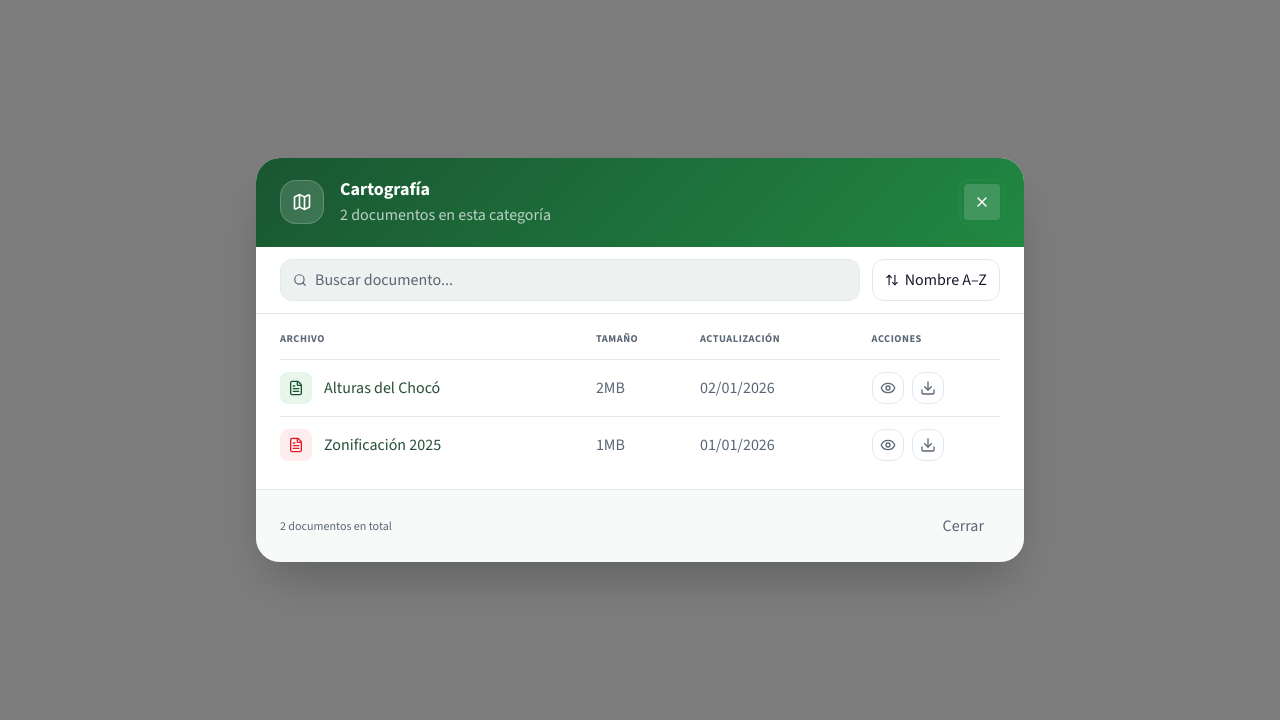
Test: CategoryModal — búsqueda y orden › ordenar por "Más antiguo" coloca el documento con fecha más vieja primero
Click the button "Nombre A–Z". click: coordinates (936, 280)
box: [872, 259, 1000, 301]
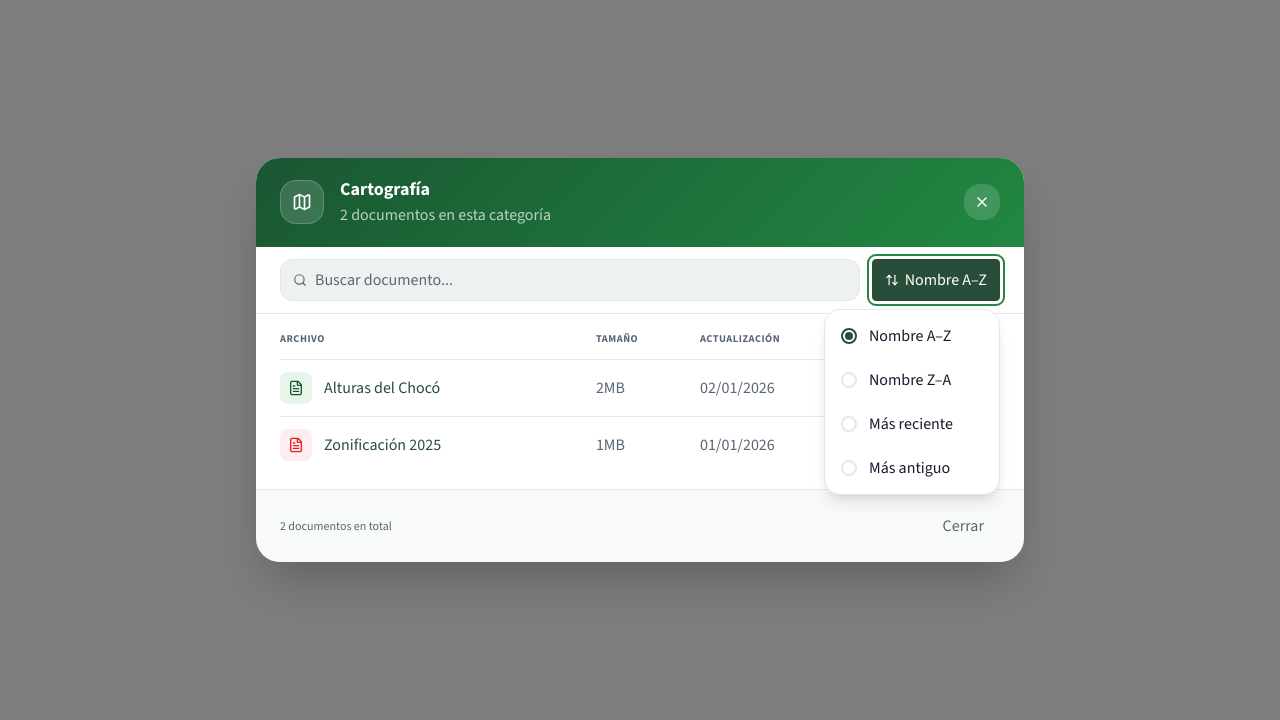
Click the button "Más antiguo". click: coordinates (912, 468)
box: [825, 446, 999, 490]
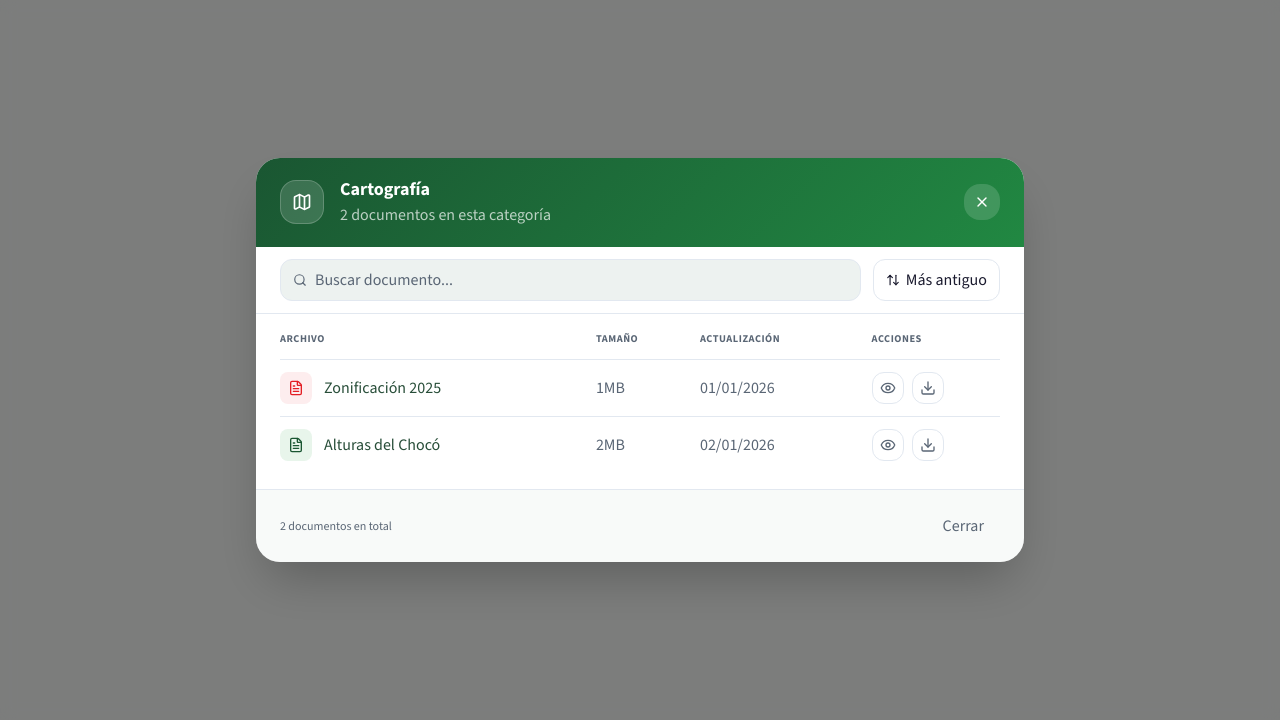
Now the row "Zonificación 2025 1MB 01/01/2026" is shown, box [280, 359, 1000, 416]
